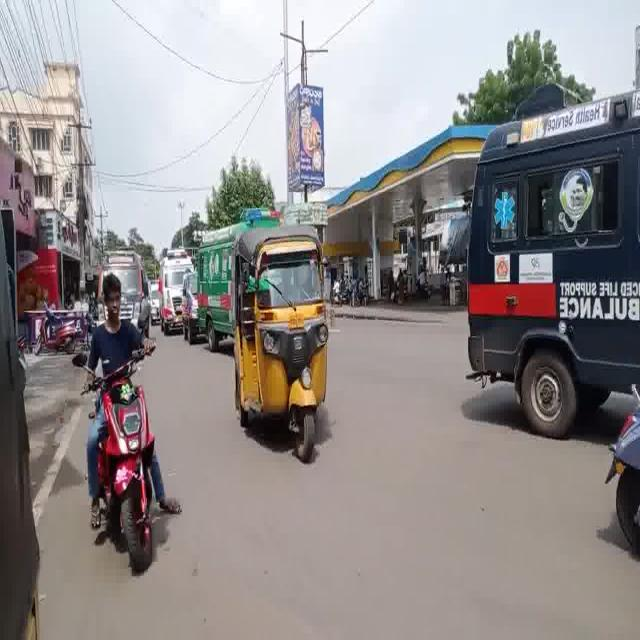ambulance: (458, 97, 640, 420), (187, 201, 286, 358), (97, 246, 151, 319), (159, 246, 185, 331)
